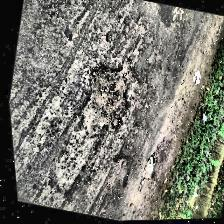pothole: (69, 52, 139, 142)
